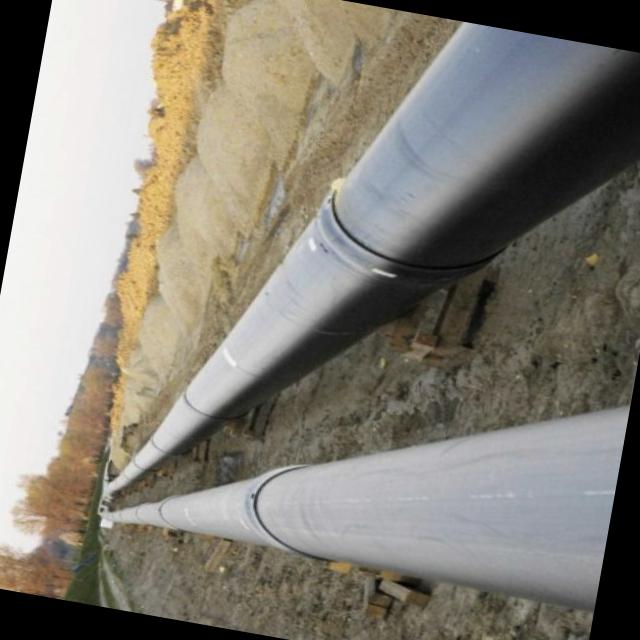gas: (107, 20, 640, 493), (103, 406, 630, 610)
